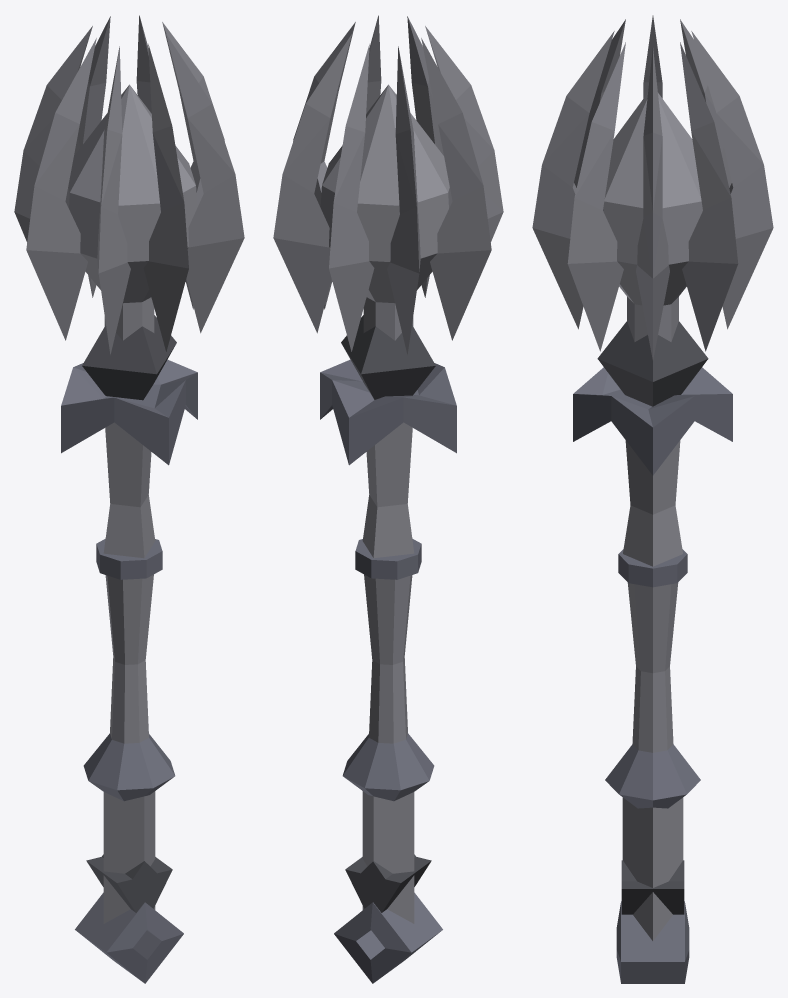
Rendered from _hammer_19.fbx.
3 views of the same model, side by side, from view 1: azimuth 30°, elevation 25°; view 2: azimuth 150°, elevation 25°; view 3: azimuth 270°, elevation 25° (orthographic).
Visible parts, largest first — view 1: hammer_19; view 2: hammer_19; view 3: hammer_19.
Part boxes in pixels (x1=…): hammer_19: x1=14, y1=15, x2=244, y2=983; hammer_19: x1=273, y1=15, x2=503, y2=983; hammer_19: x1=532, y1=15, x2=773, y2=983.
Size of the model in its own units: 17.91 by 78.19 by 17.91.
